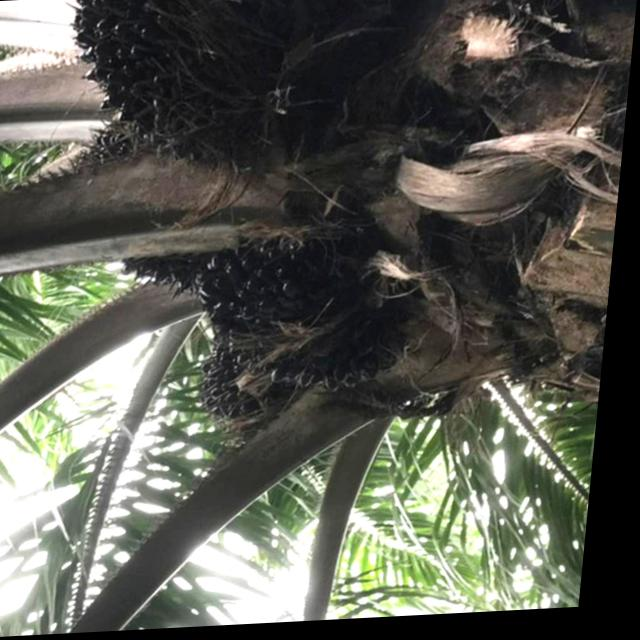almost: (181, 205, 435, 403)
